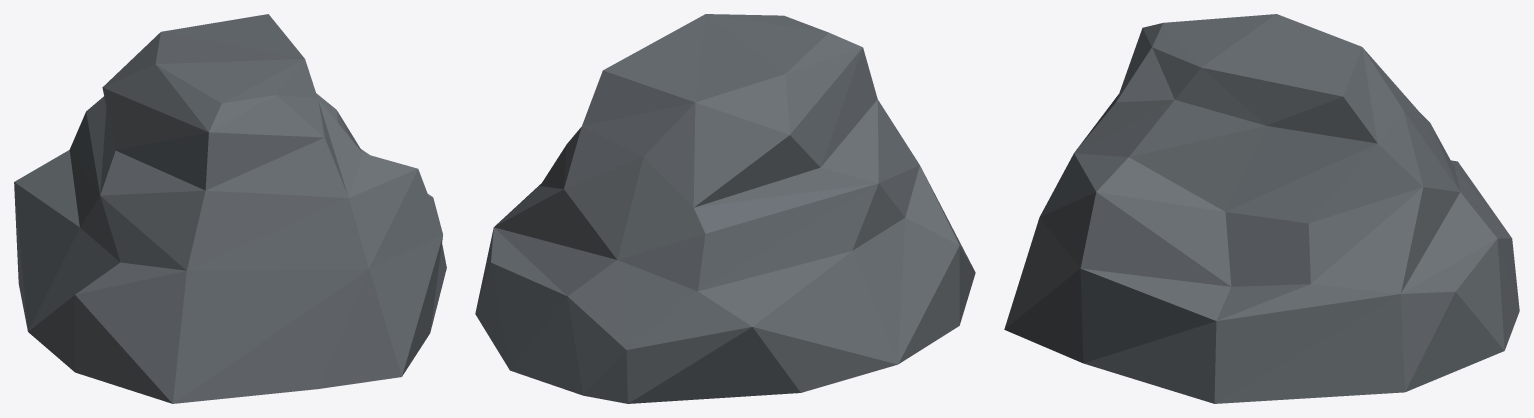
The model's file is TP_Rock02.fbx.
The picture shows the model from 3 angles, left to right: view 1: azimuth 30°, elevation 25°; view 2: azimuth 150°, elevation 25°; view 3: azimuth 270°, elevation 25°; orthographic projection. The views are drawn at different scales.
Visible parts, largest first — view 1: TP_Rock02; view 2: TP_Rock02; view 3: TP_Rock02.
Boxes of the visible parts, x1=… form: TP_Rock02: x1=14, y1=14, x2=446, y2=403; TP_Rock02: x1=475, y1=14, x2=975, y2=403; TP_Rock02: x1=1004, y1=14, x2=1519, y2=403.
Bounding box in the file's own units: 168 × 104 × 186.
1 material, 1 textured.
